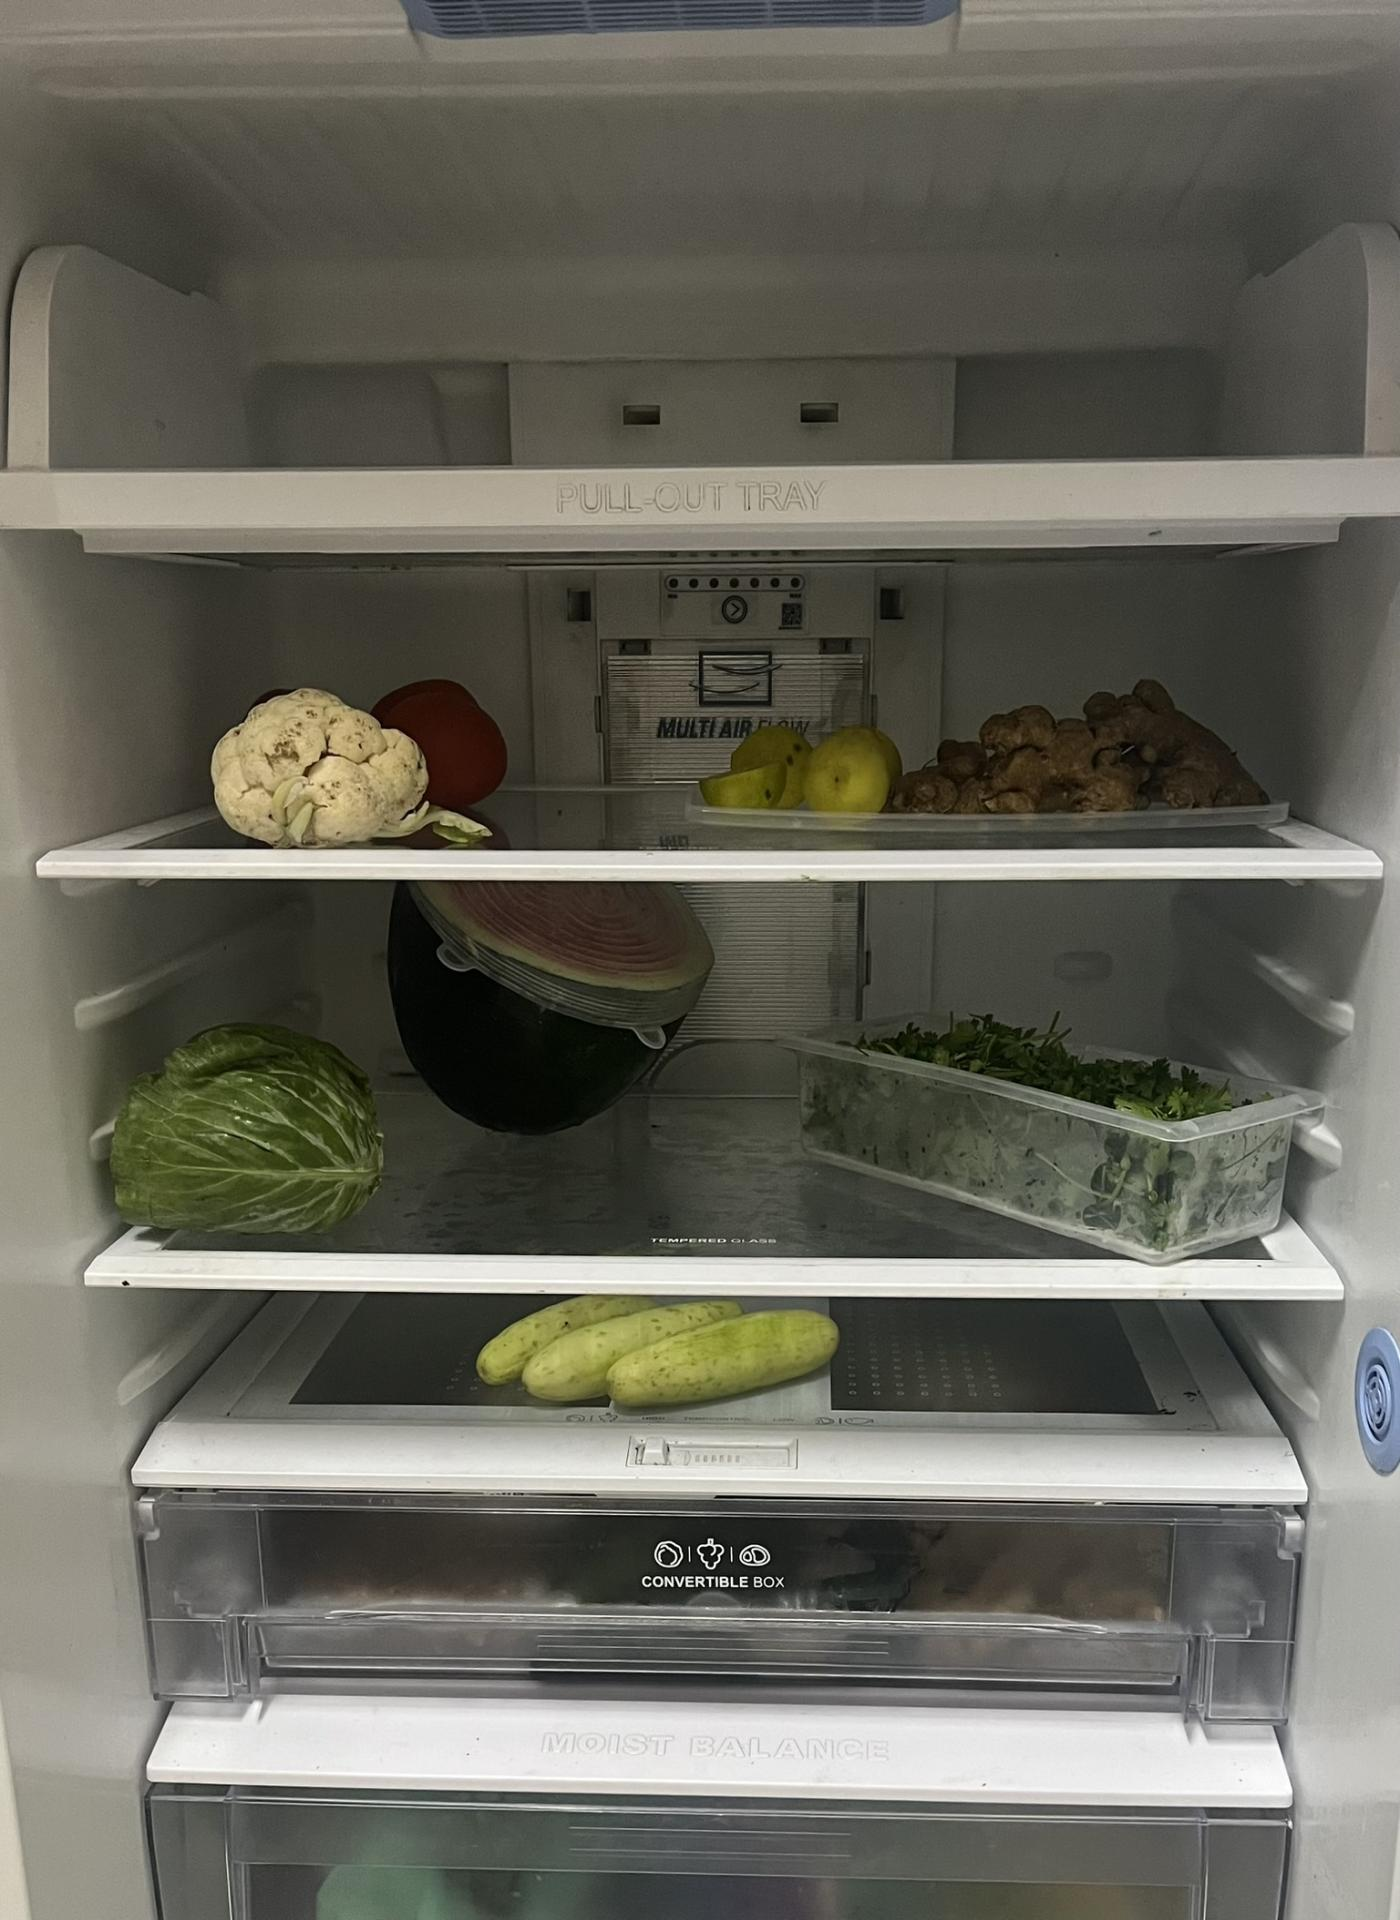cauliflower: (207, 690, 449, 838)
coriander: (808, 1014, 1294, 1249)
cucumber: (480, 1289, 835, 1407)
ginger: (898, 671, 1272, 803)
lemon: (698, 720, 905, 818)
lettuce: (112, 1018, 386, 1243)
tomato: (376, 675, 510, 814)
watermelon: (389, 878, 711, 1139)
